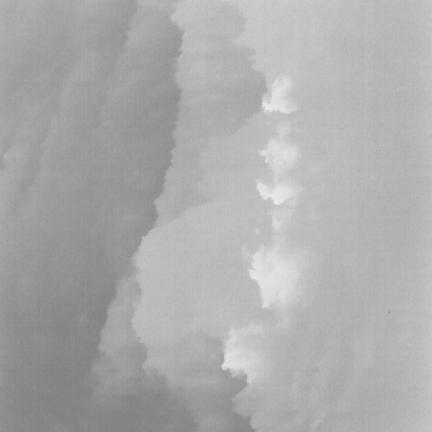flukeprints: (249, 245, 300, 307), (222, 324, 263, 380), (259, 138, 300, 176), (262, 78, 294, 114), (257, 182, 295, 205), (262, 186, 287, 204)
